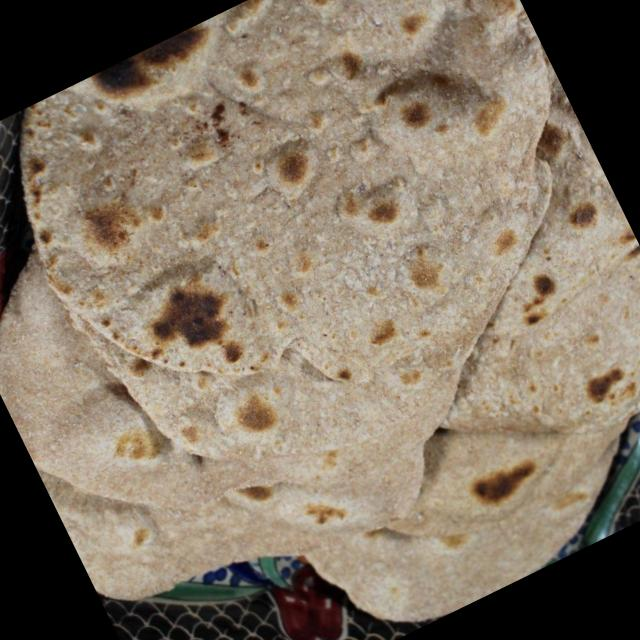roti: (0, 0, 640, 624)
